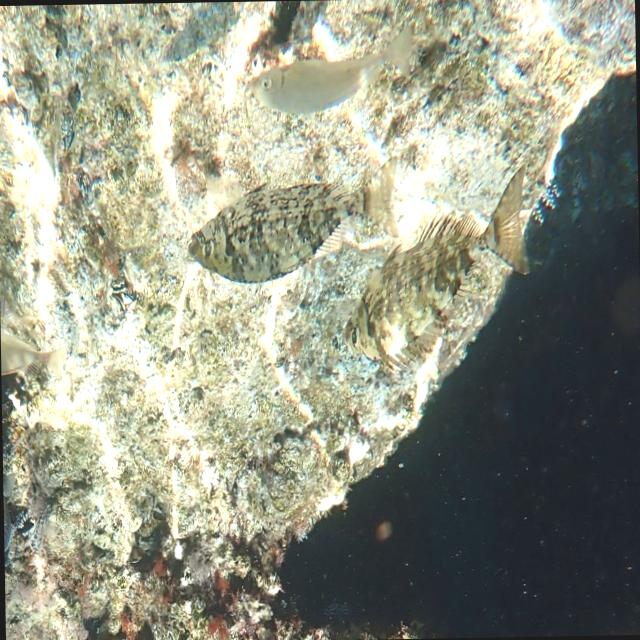Sokar Baligi: (164, 146, 402, 294), (241, 12, 423, 126)
